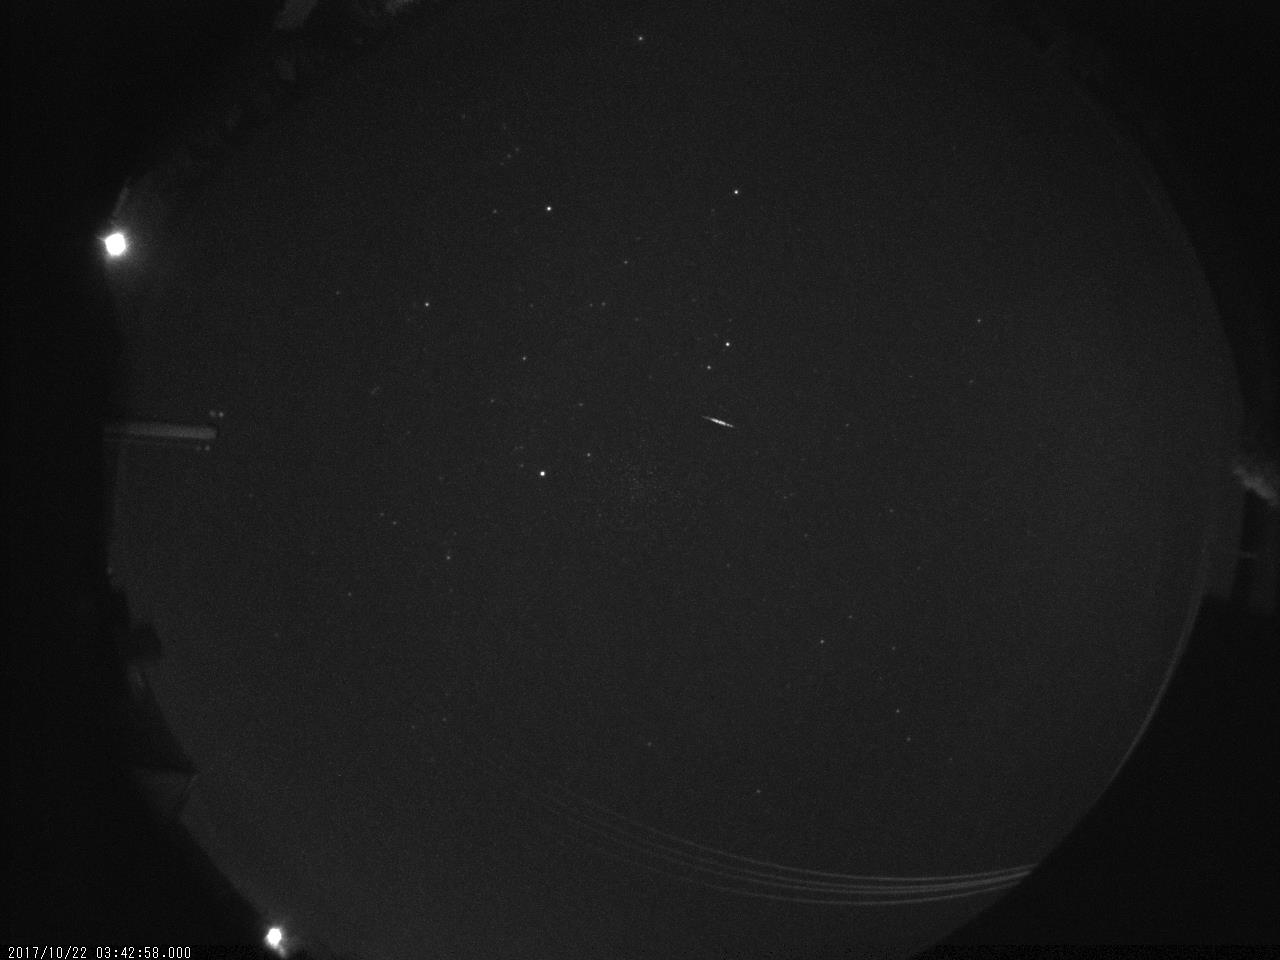meteor: (696, 405, 743, 437)
